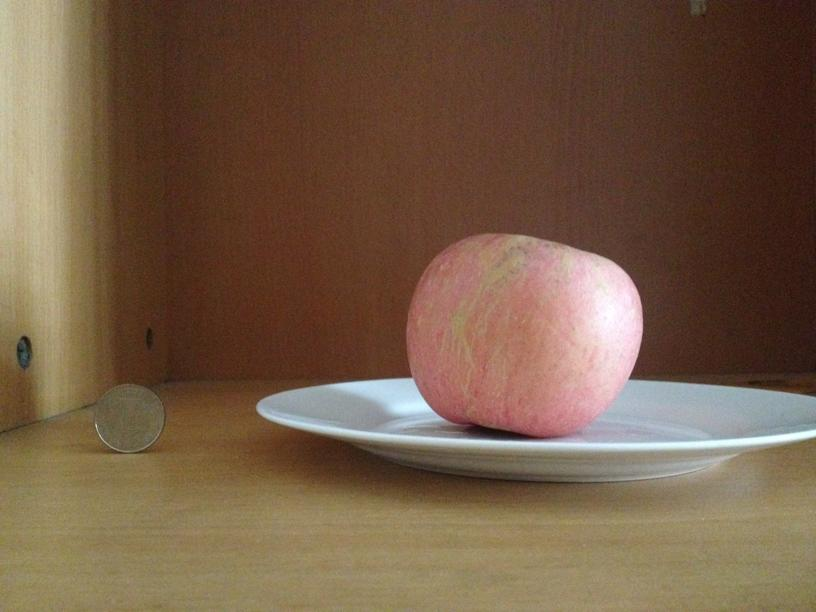apple: (405, 233, 645, 434)
coin: (94, 381, 164, 452)
